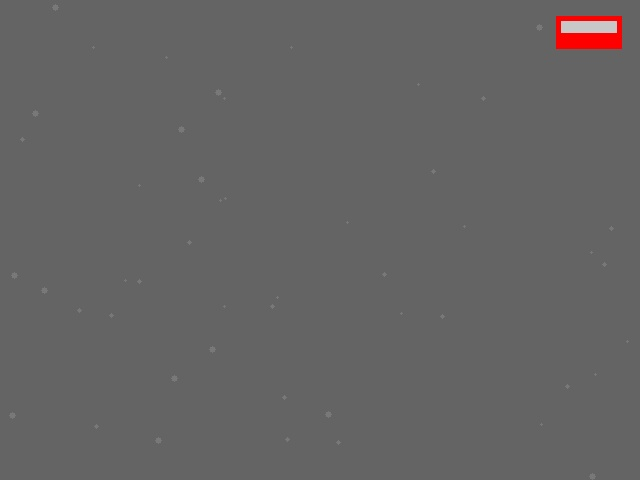car: (556, 16, 621, 48)
